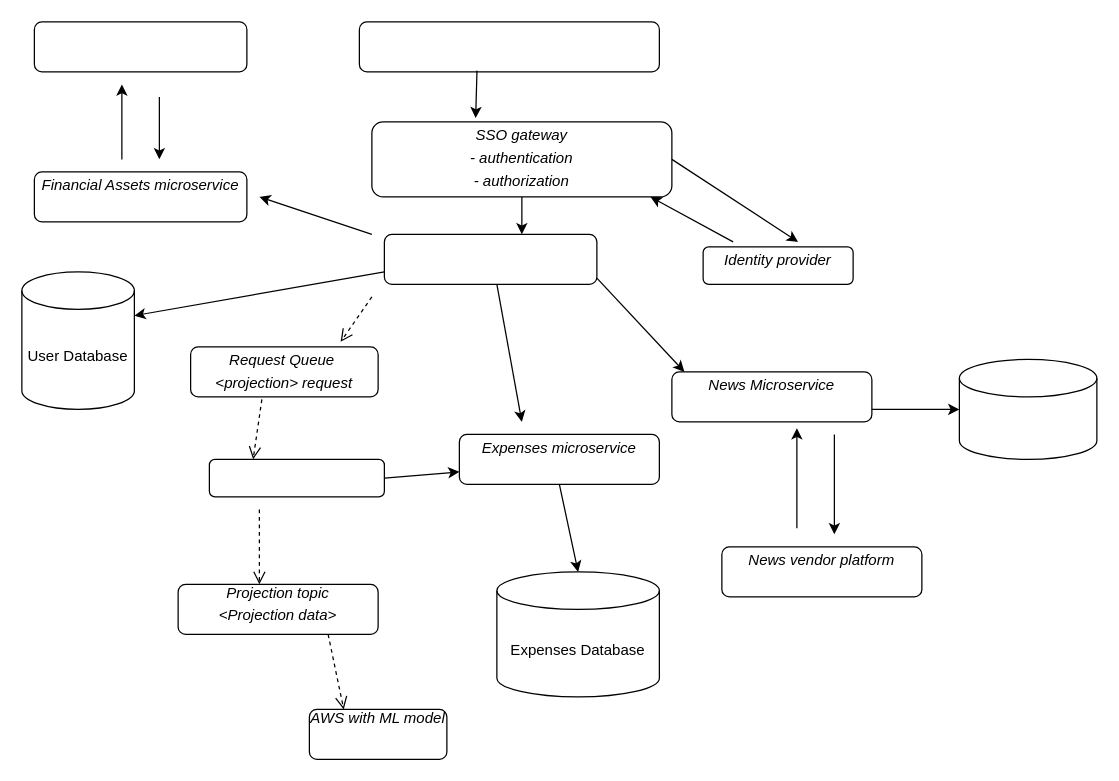
The diagram is 1119 pixels wide and 781 high, and some of its shapes have lost their labels. Here are the shapes that lost their labels. From the top down, the centre of each, then its label:
At point 140,46: "Trading platform".
At point 508,46: "User enters the app on Android App".
At point 490,258: "User microservice".
At point 1027,408: "News In-Memory Database".
At point 296,477: "Projection microservice".
